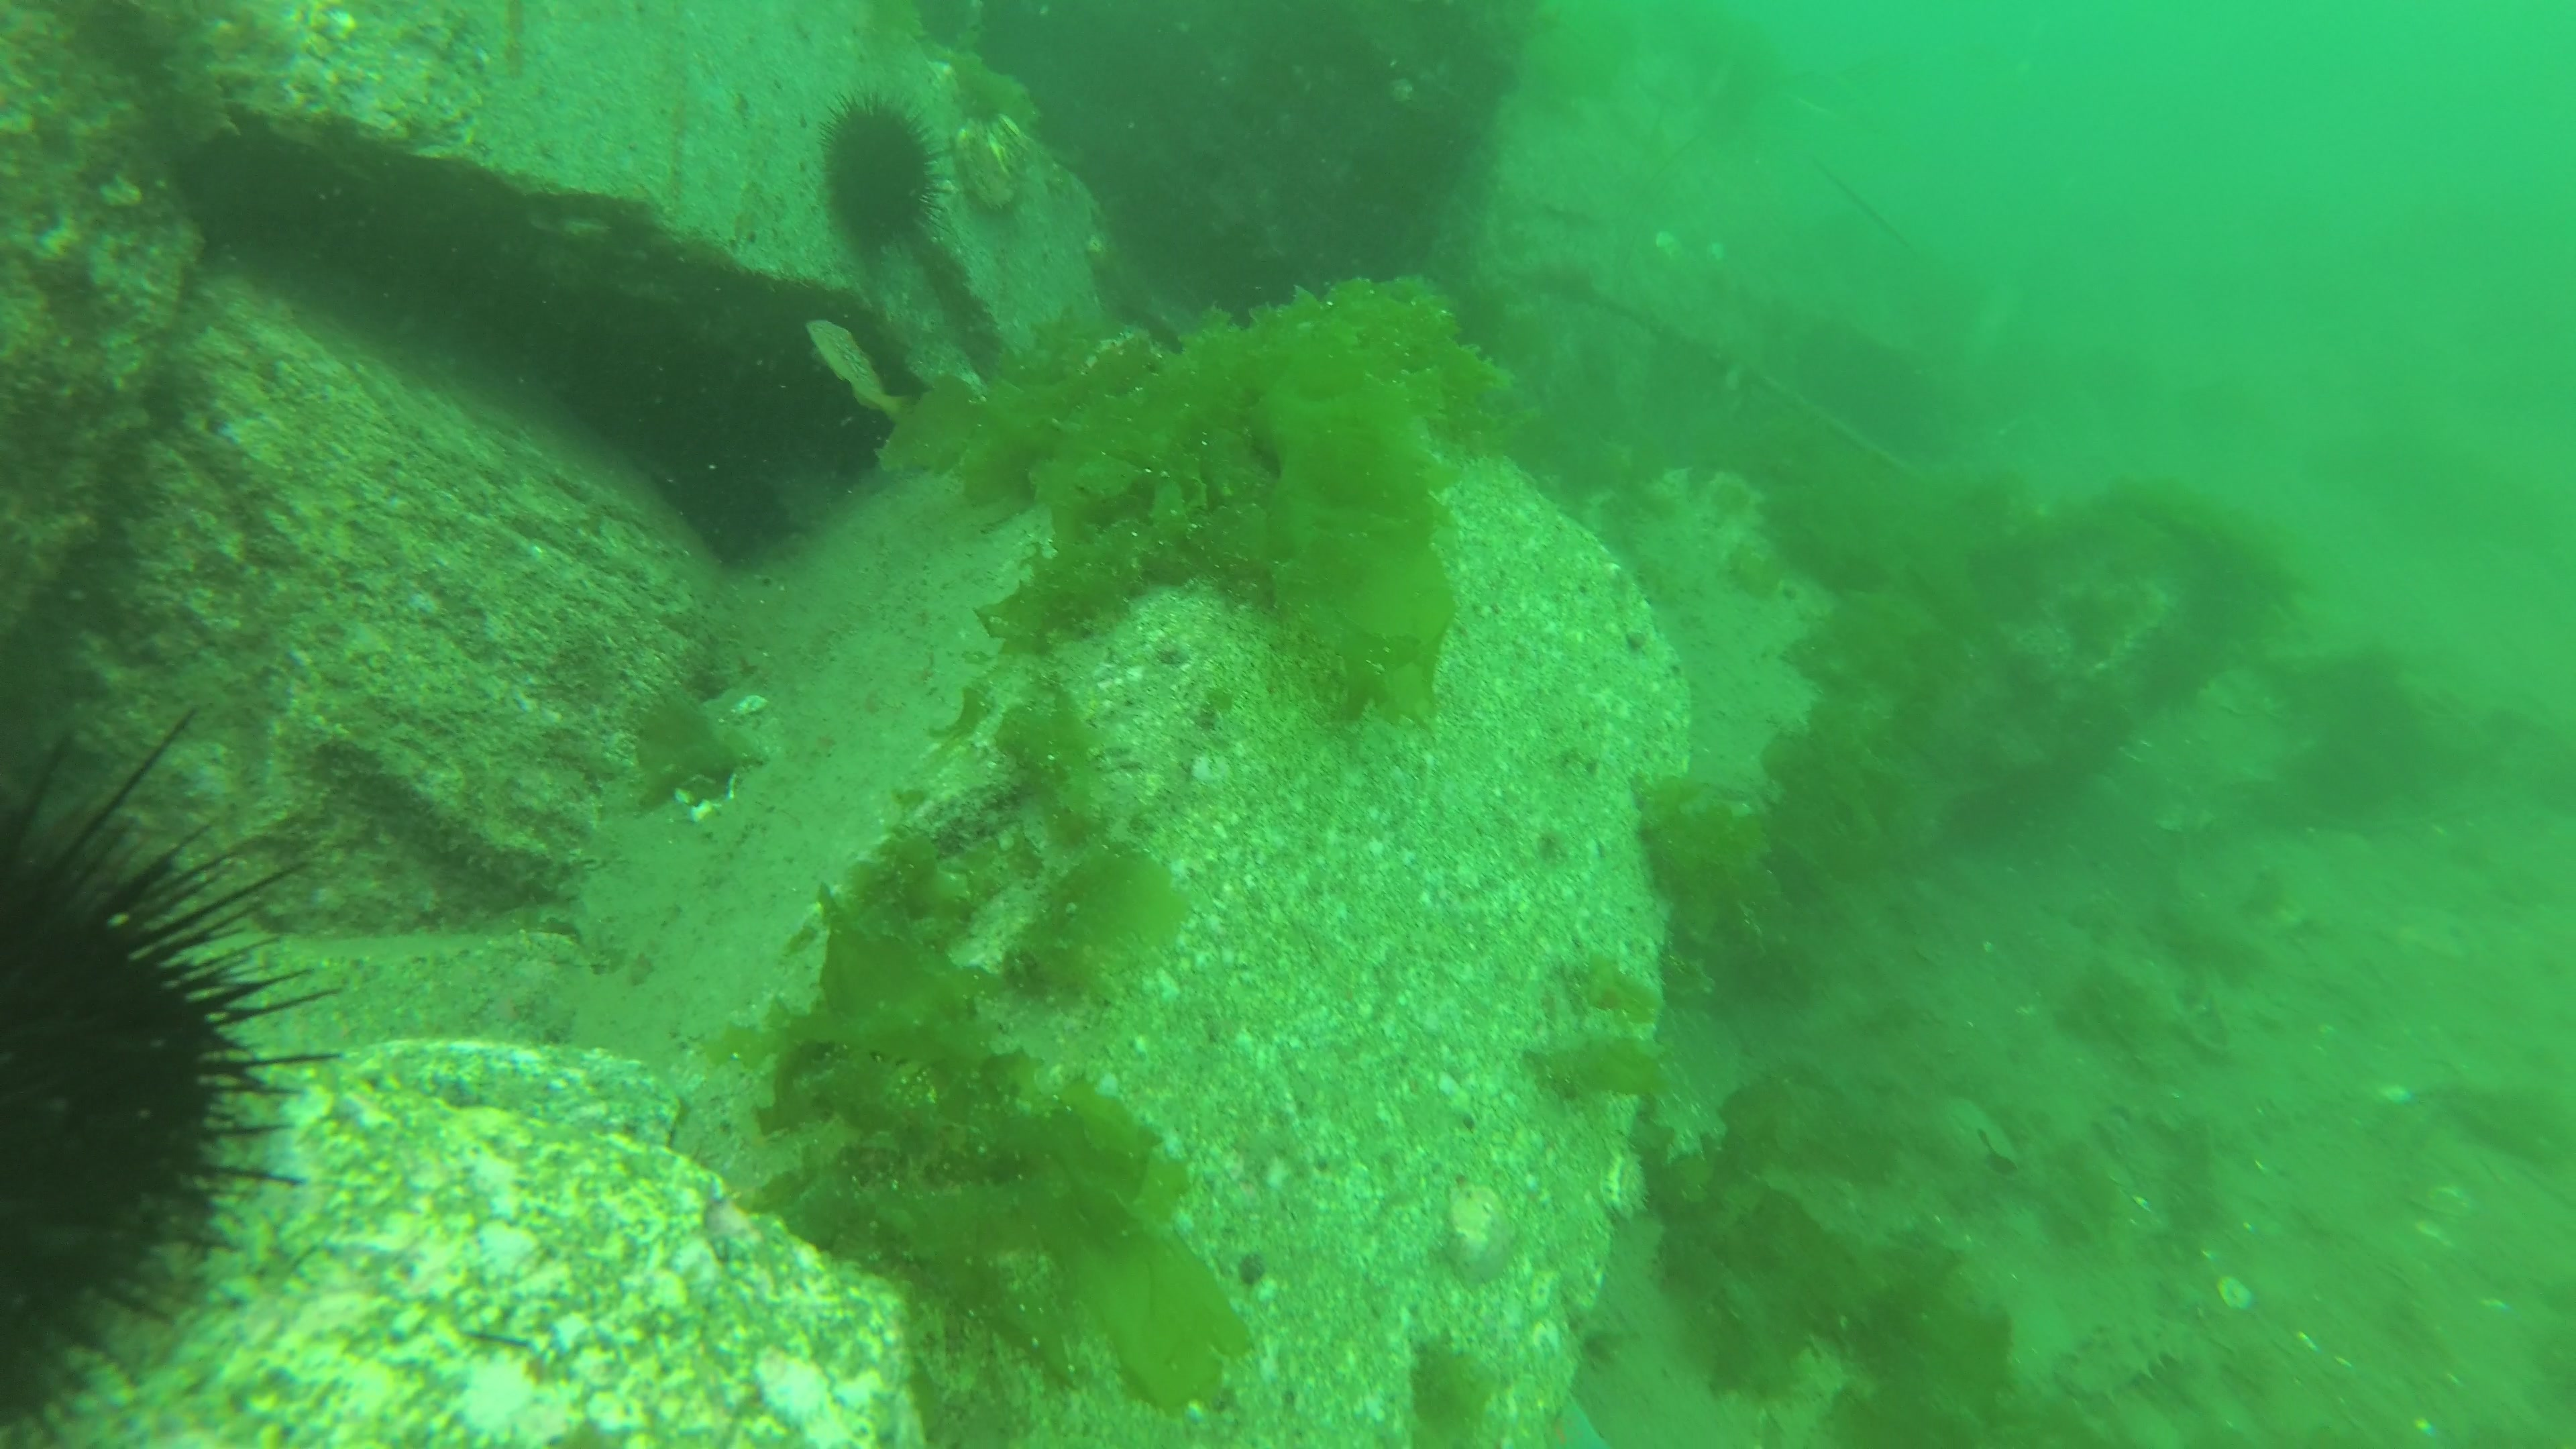echinus: (5, 711, 345, 1445), (814, 83, 957, 276)
holothurian: (2056, 1304, 2201, 1414)
